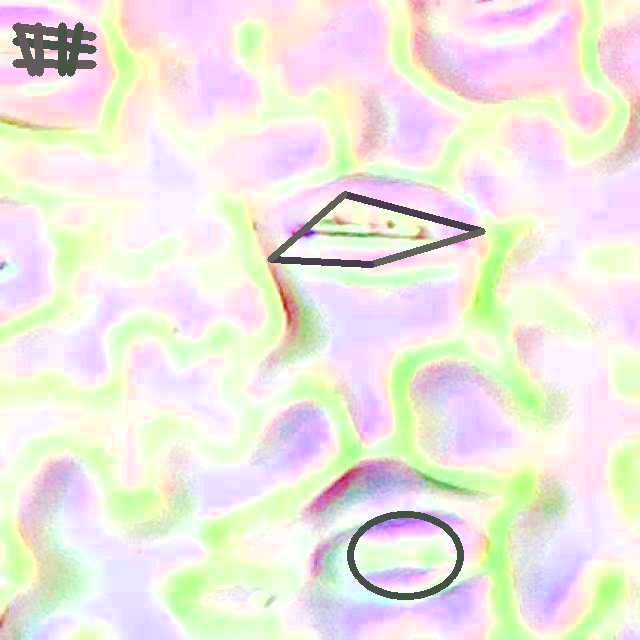close: (347, 511, 462, 599)
open: (268, 192, 485, 267), (12, 23, 96, 76)
